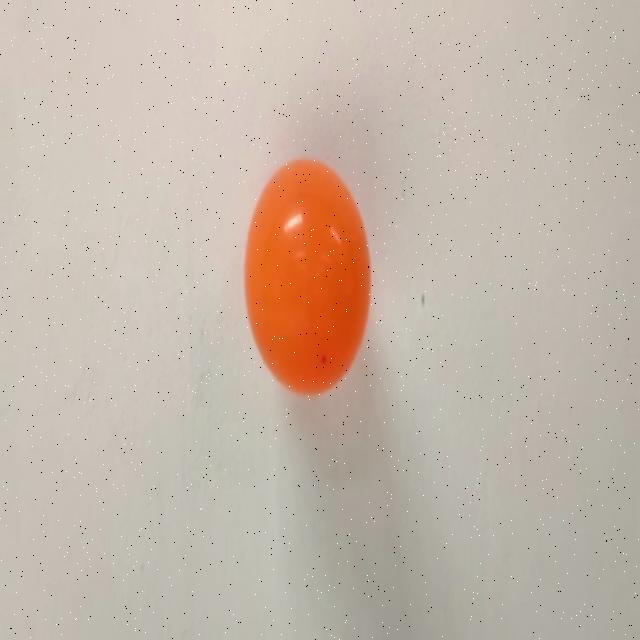red: (243, 157, 372, 397)
